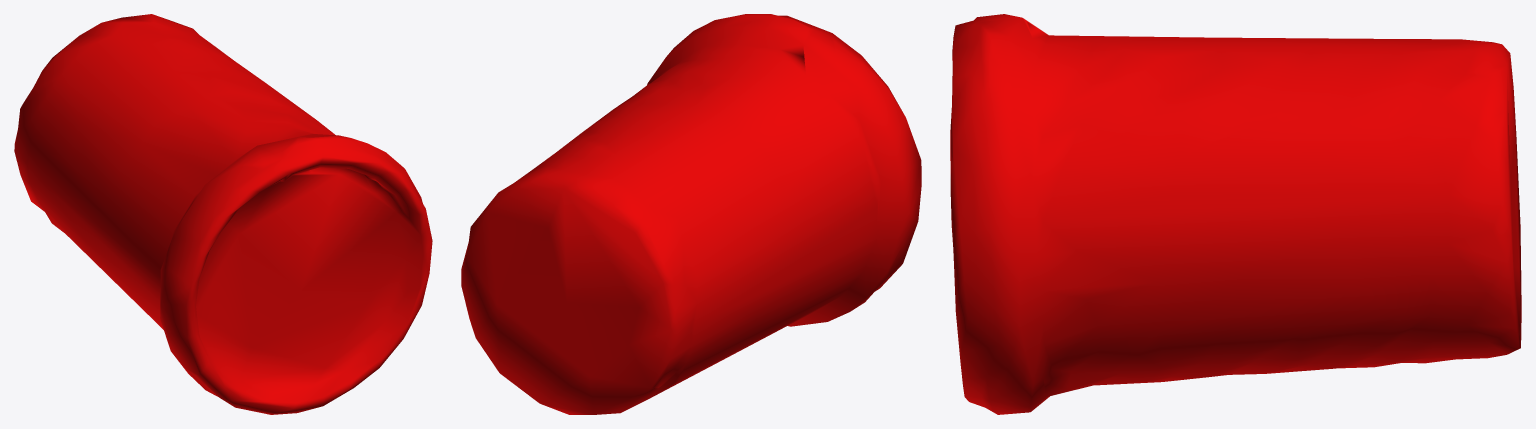
Rendered from cup1_4.dae.
3 renders of one model, left to right at view 1: azimuth 30°, elevation 25°; view 2: azimuth 150°, elevation 25°; view 3: azimuth 270°, elevation 25°, orthographic. The views are drawn at different scales.
Parts seen in each view (by area): view 1: BakingVanilla_800_tex; view 2: BakingVanilla_800_tex; view 3: BakingVanilla_800_tex.
Part boxes in pixels (x1,y1,x2,y2): BakingVanilla_800_tex: [14, 14, 432, 414]; BakingVanilla_800_tex: [461, 14, 921, 414]; BakingVanilla_800_tex: [950, 14, 1521, 414].
Size of the model in its own units: 0.0447 by 0.0636 by 0.045.
